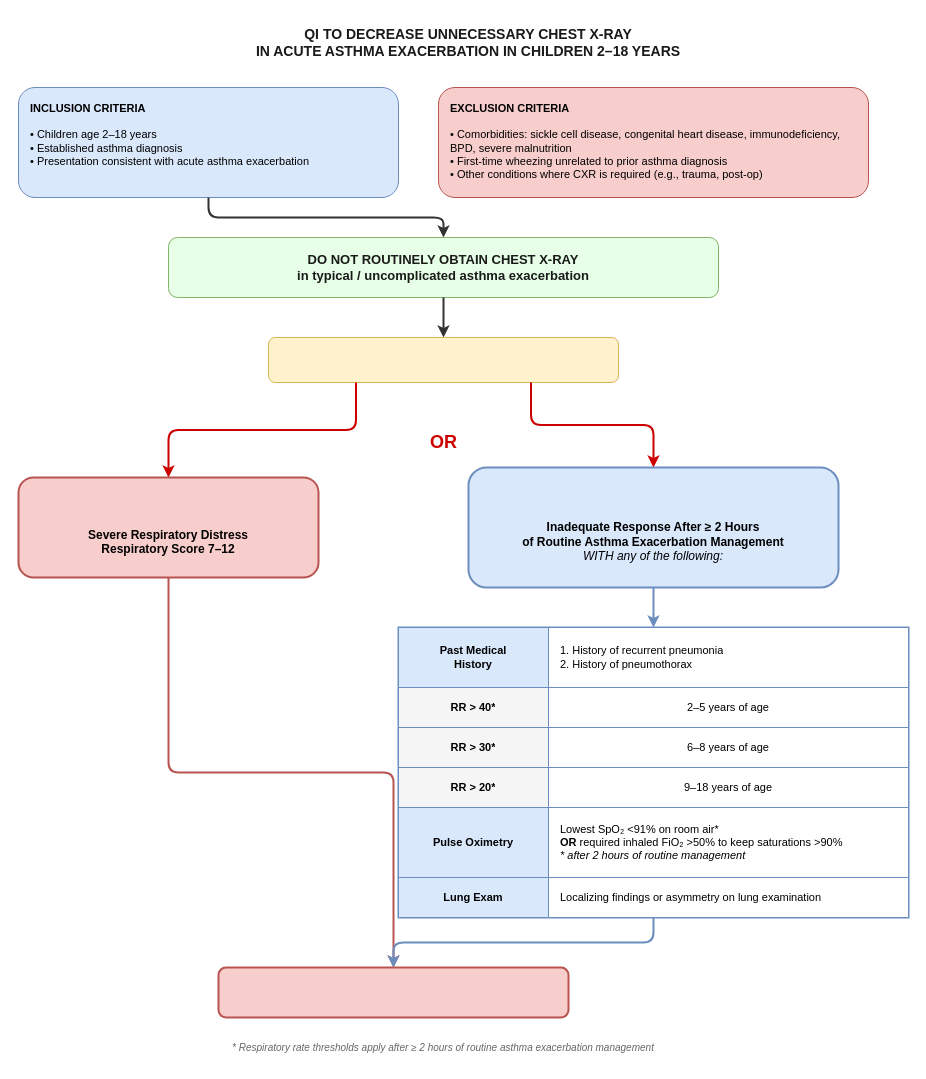
Some shapes in this 926 by 1079 pixel diagram are drawn without their labels. Here are the shapes that lost their labels. From the top down, the centre of each, then its label:
At point 443,359: "CONSIDER OBTAINING CXR IF:".
At point 393,992: "→ OBTAIN CHEST X-RAY".
